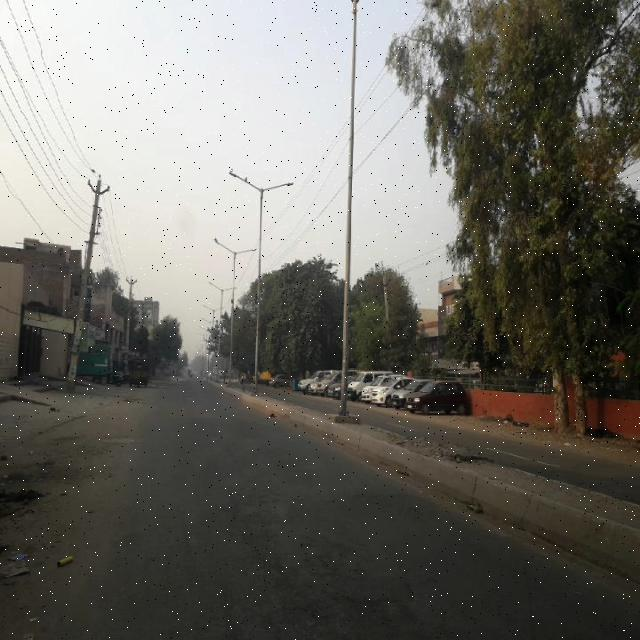D40: (214, 492, 396, 634)
